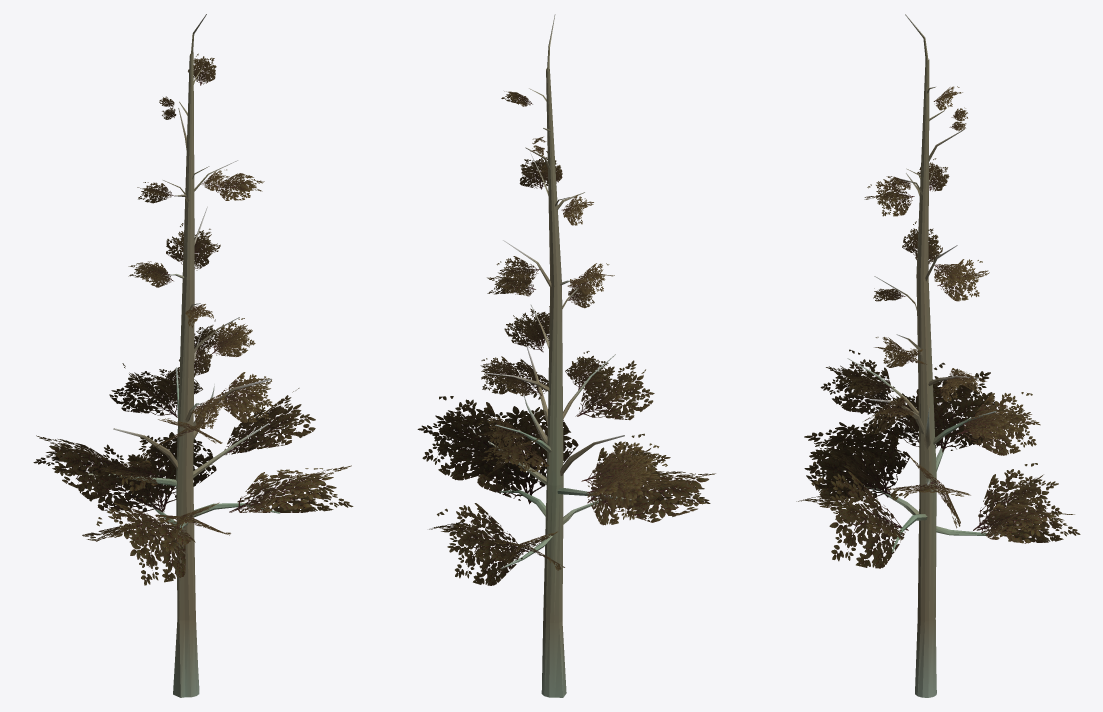
The model's file is NX-E-Bishan-Shu02.FBX.
The picture shows the model from 3 angles, left to right: view 1: azimuth 30°, elevation 25°; view 2: azimuth 150°, elevation 25°; view 3: azimuth 270°, elevation 25°; orthographic projection. The views are drawn at different scales.
Parts seen in each view (by area): view 1: NX-E-Bishan-Shu02; view 2: NX-E-Bishan-Shu02; view 3: NX-E-Bishan-Shu02.
Boxes of the visible parts, x1,y1,x2,y2 form: NX-E-Bishan-Shu02: (33,14,353,697); NX-E-Bishan-Shu02: (417,14,715,697); NX-E-Bishan-Shu02: (796,14,1080,697).
Bounding box in the file's own units: 27.57 × 59.72 × 24.29.
